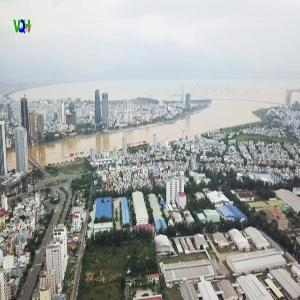drone: (111, 241, 166, 296)
